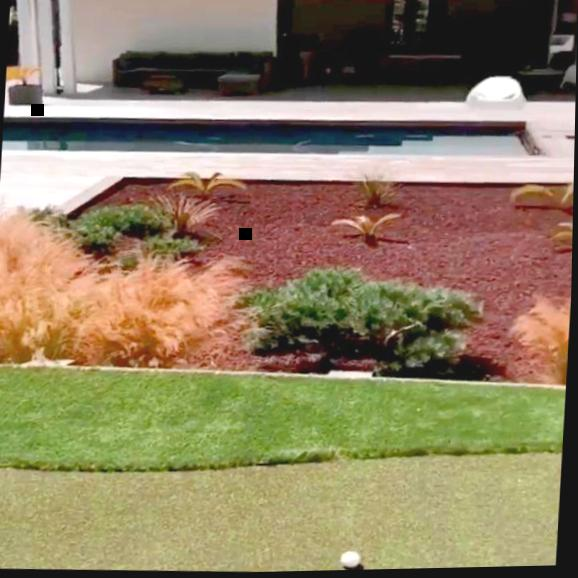GolfBall: (342, 550, 363, 567)
